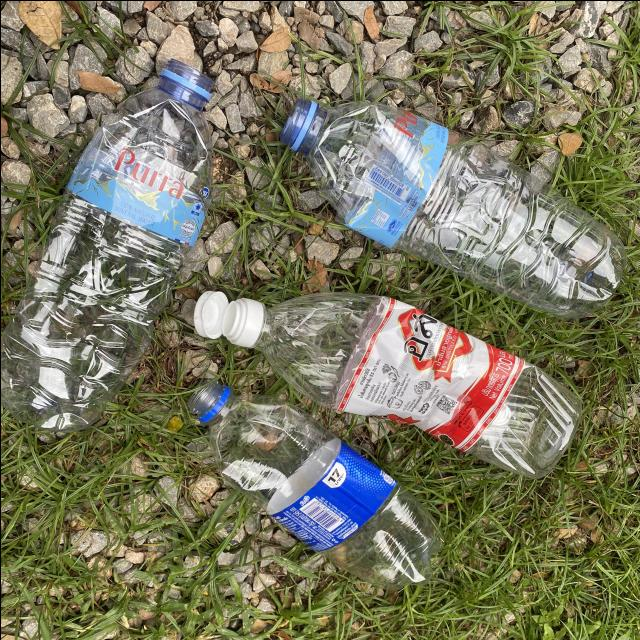plastik: (0, 58, 212, 430), (280, 99, 625, 316), (193, 290, 580, 477), (187, 380, 442, 589)
